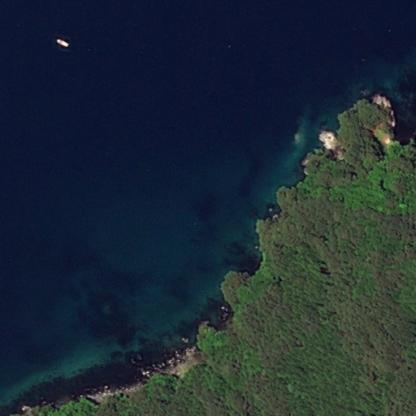ship: (50, 29, 72, 52)
